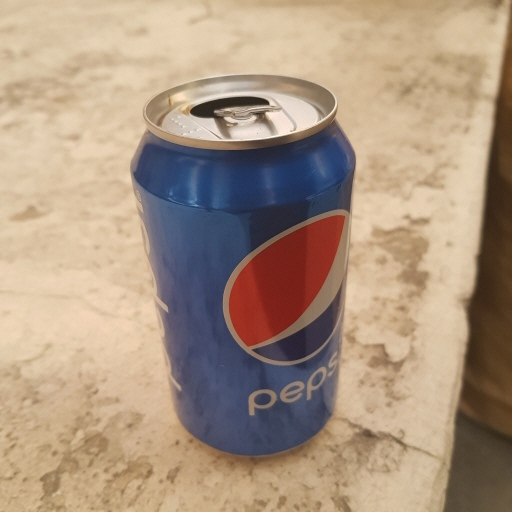Metal_0: (130, 73, 356, 461)
